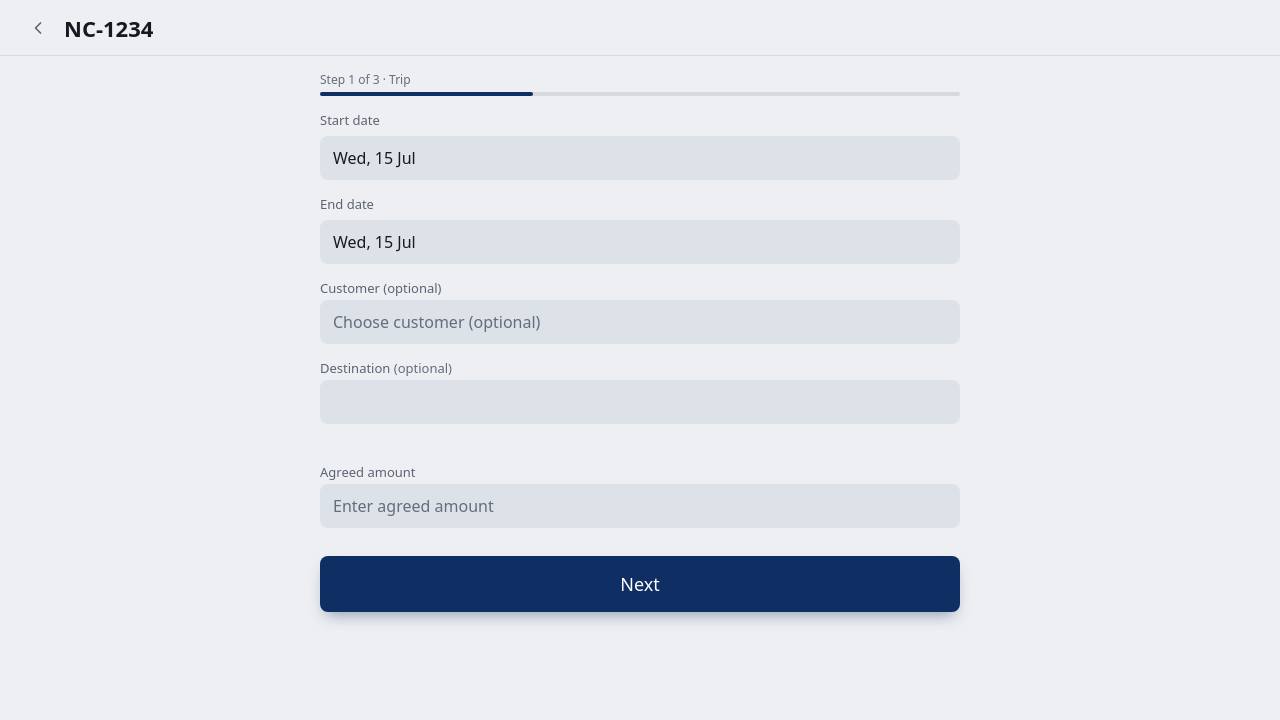
Test: the confirm step warns how many daily-lease days this booking pauses, and what they were worth
The width and height of the screenshot is (1280, 720).
Click the button "Next".
click(640, 584)  # box [320, 556, 960, 612]
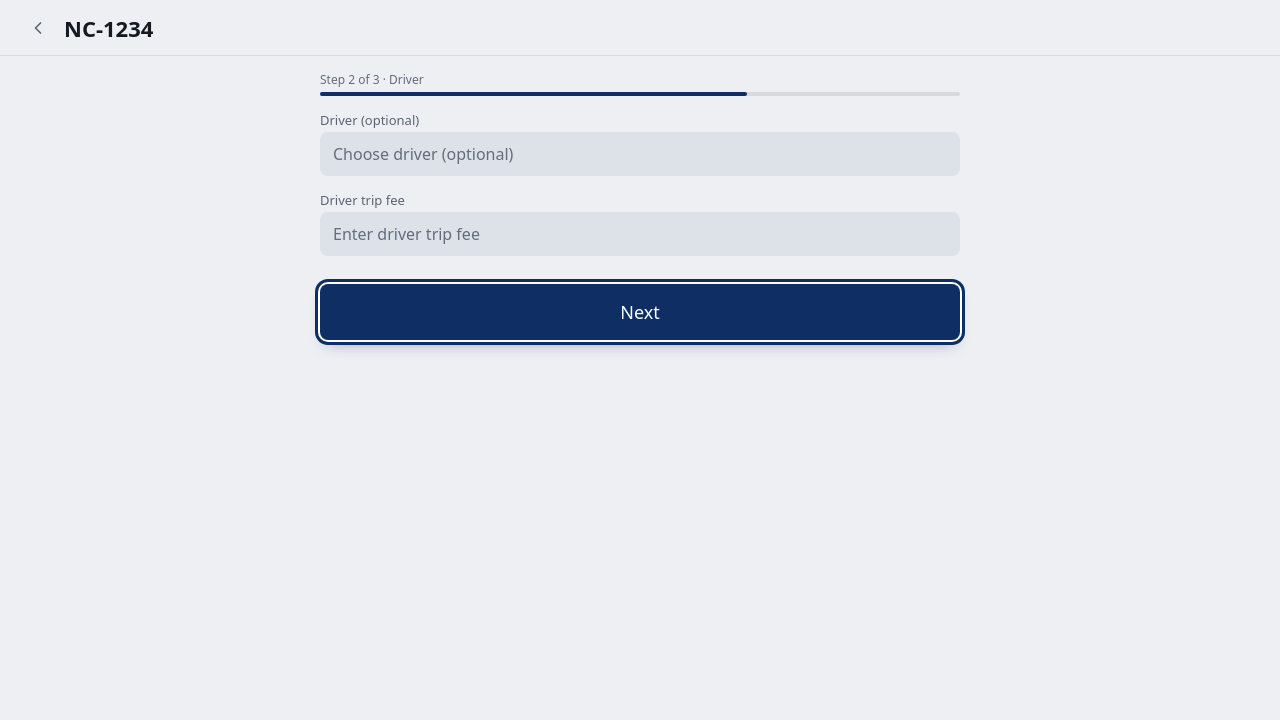
Click the button "Next".
click(640, 312)  # box [320, 284, 960, 340]
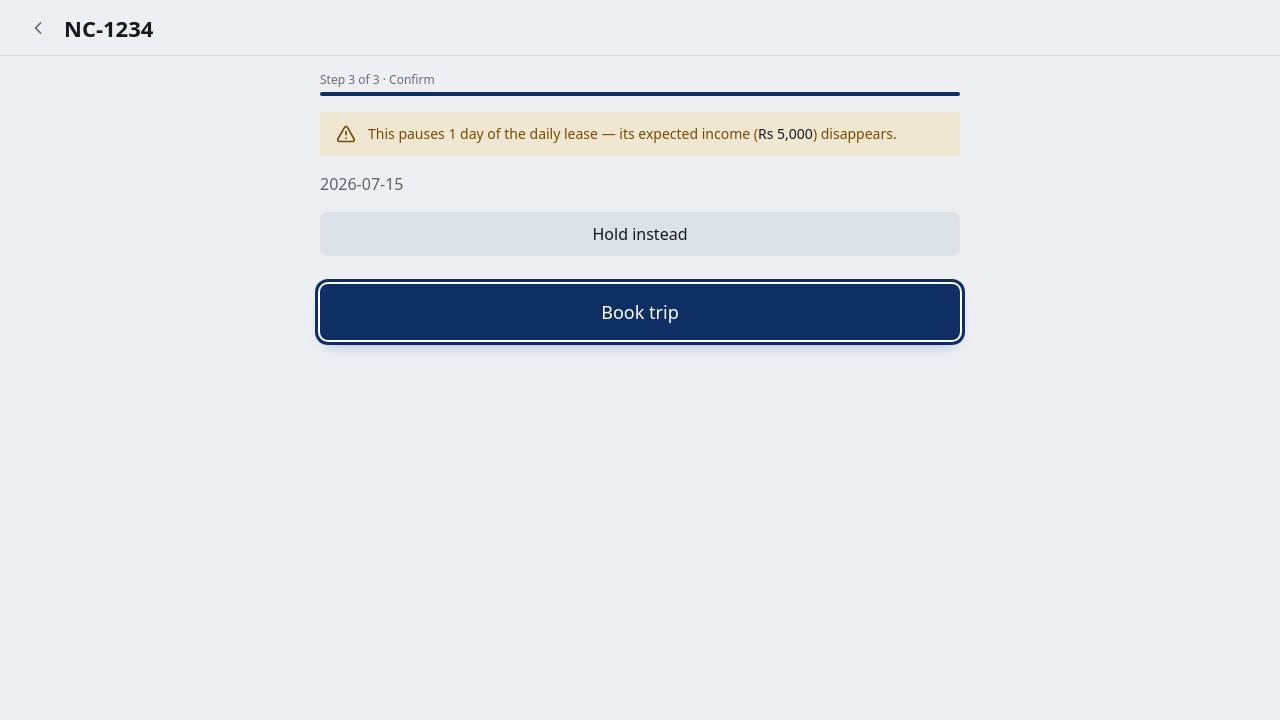
Check: the text "pauses 1 day" is shown, box [368, 124, 944, 144]
Check: the text "Rs 5,000" is shown, box [758, 124, 813, 143]
